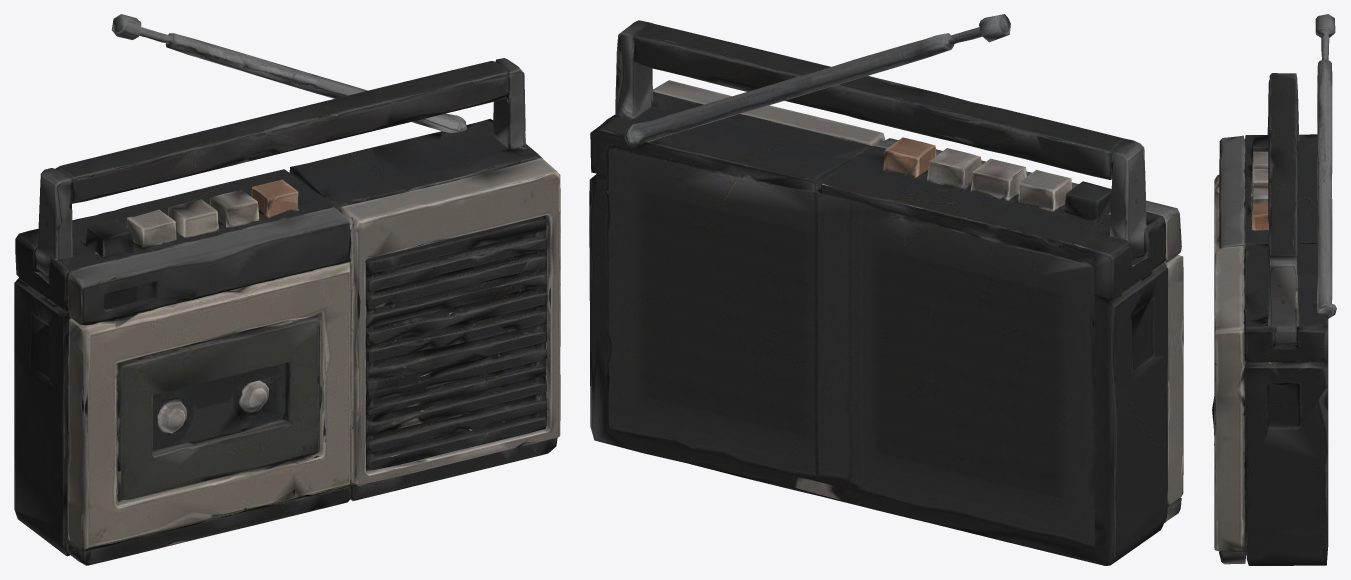
File: radio.glb
3 renders of one model, left to right at view 1: azimuth 30°, elevation 25°; view 2: azimuth 150°, elevation 25°; view 3: azimuth 270°, elevation 25°, orthographic. The views are drawn at different scales.
Size of the model in its own units: 1.9 by 1.82 by 0.5114.
1 material, 1 textured.
